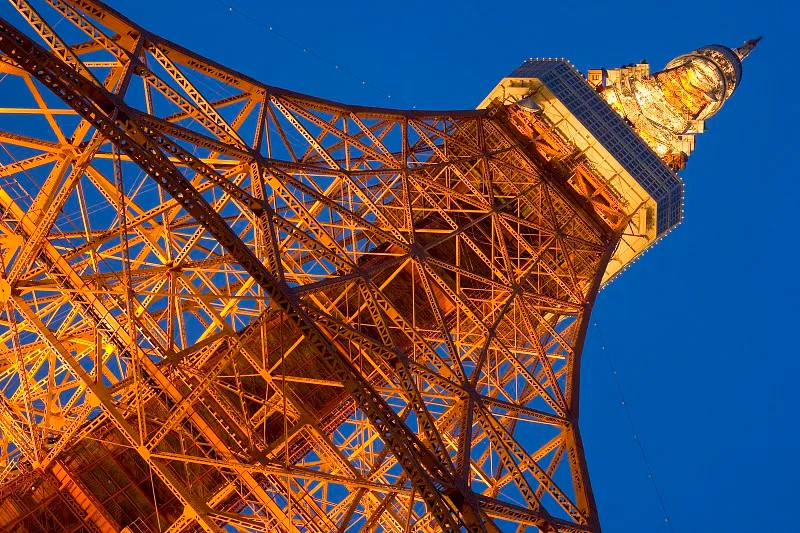Tokyo: (1, 2, 767, 533)
